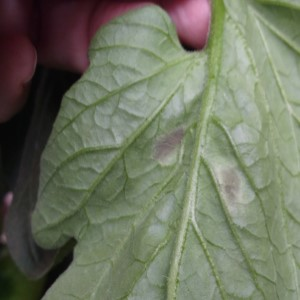cladosporium: (153, 125, 185, 162), (220, 167, 241, 203)
